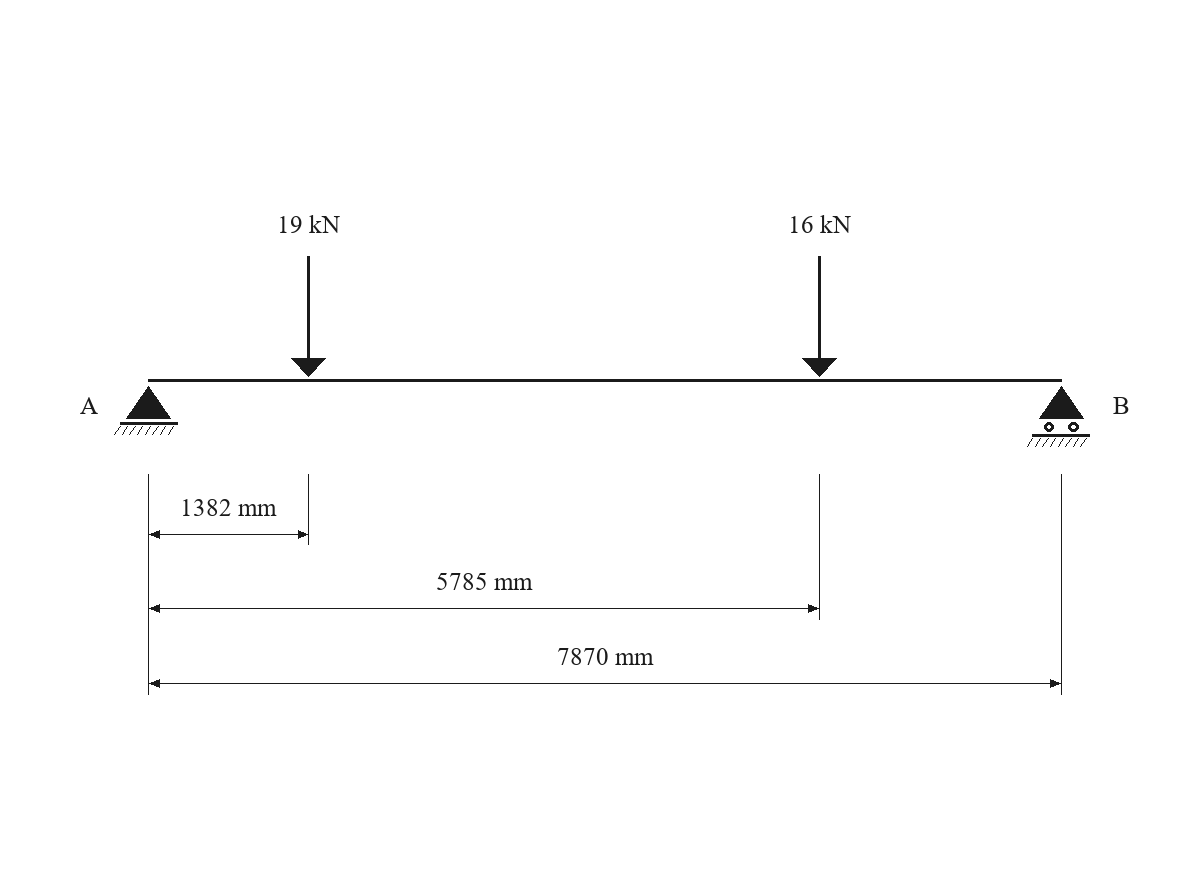pin_support: (114, 386, 178, 435)
point_load: (291, 256, 326, 377), (802, 256, 837, 377)
roller_support: (1027, 386, 1090, 447)
